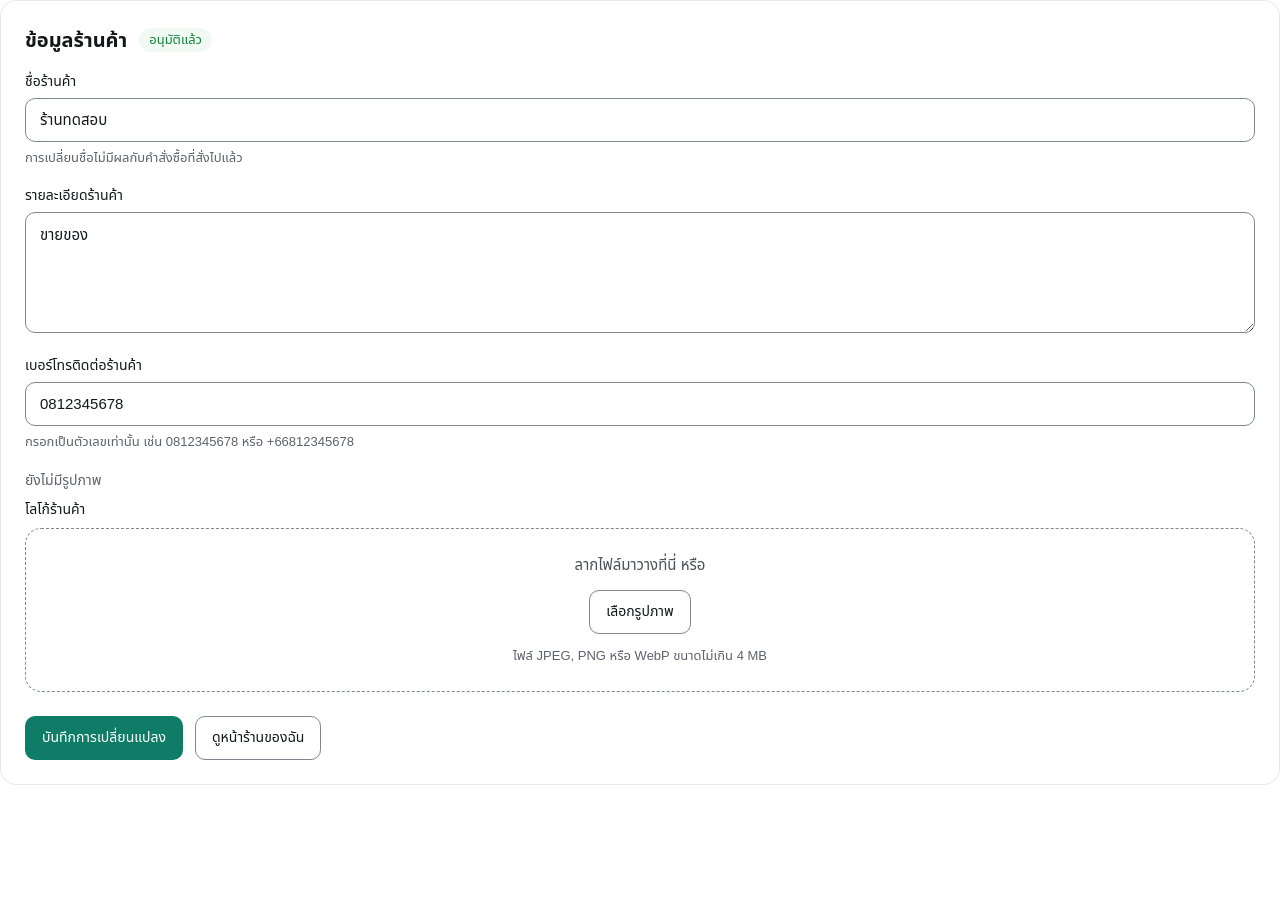
StoreSection and StoreForm › sends only the changed field, shows the saved confirmation, and refreshes
Step 1. Replace the text in the field labelled "ชื่อร้านค้า" with "ชื่อใหม่" → (640, 120), box [25,98,1255,142]
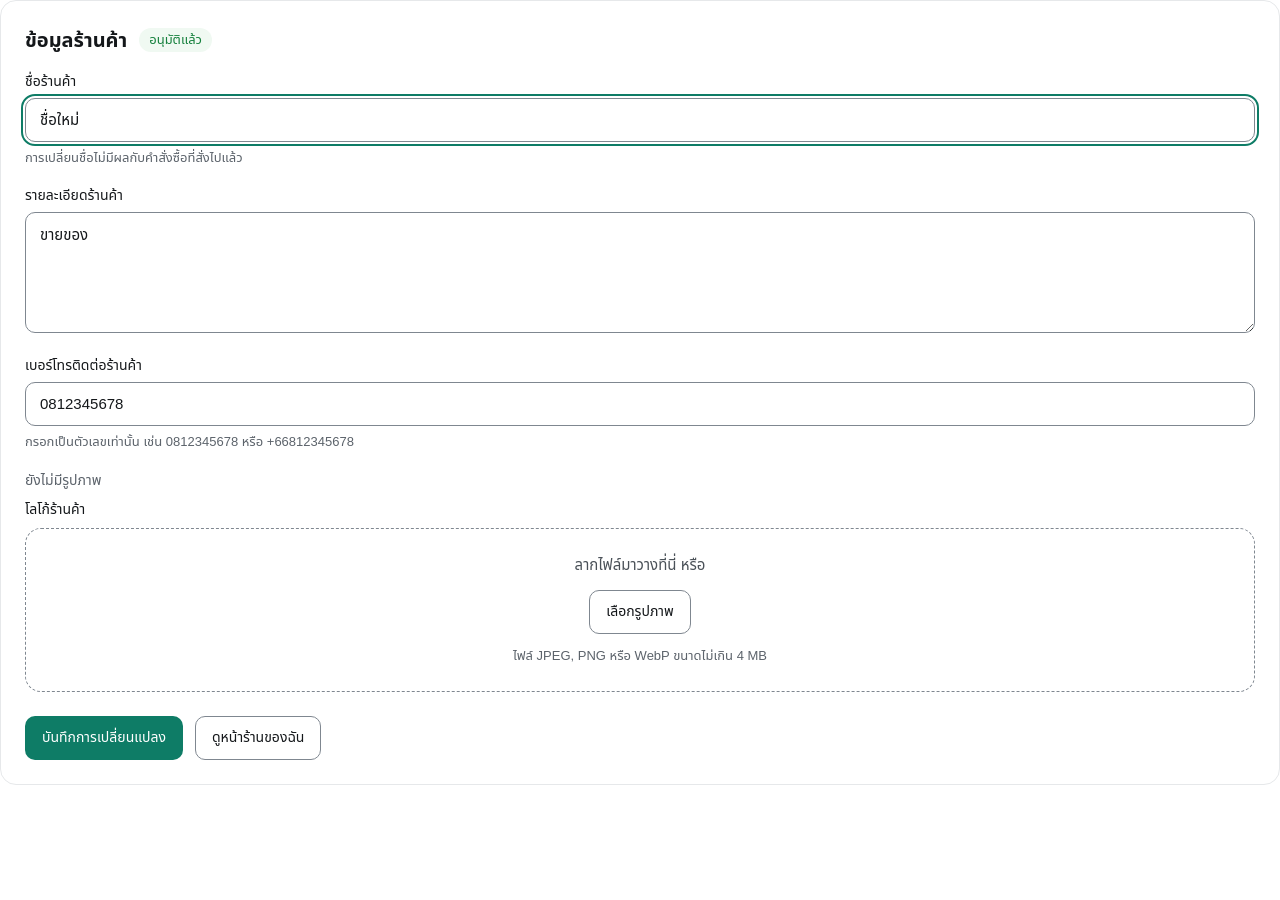
Step 2. Click the button "บันทึกการเปลี่ยนแปลง" → (104, 738), box [25,716,183,760]
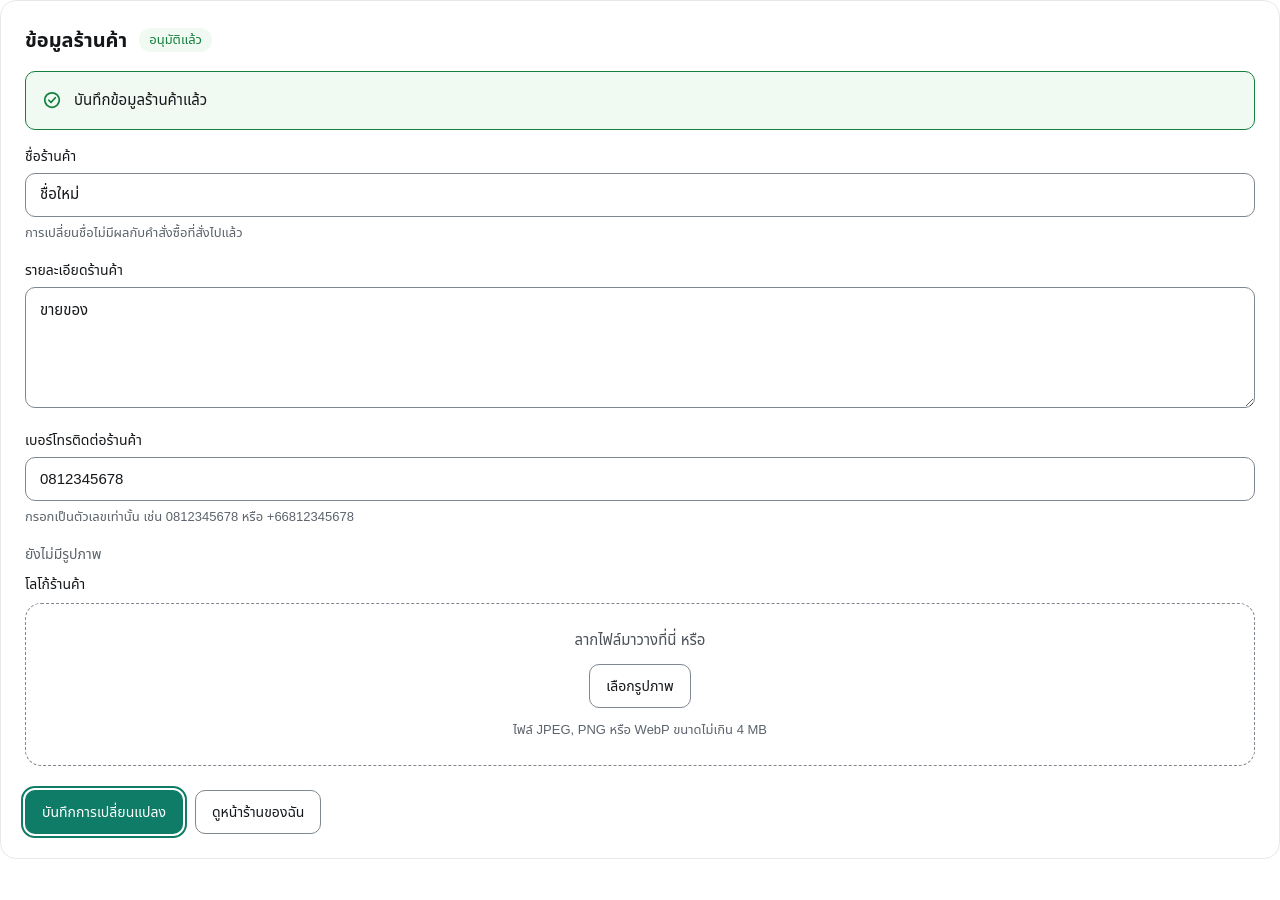
Check: the text "บันทึกข้อมูลร้านค้าแล้ว" is shown, box [74,91,207,108]
